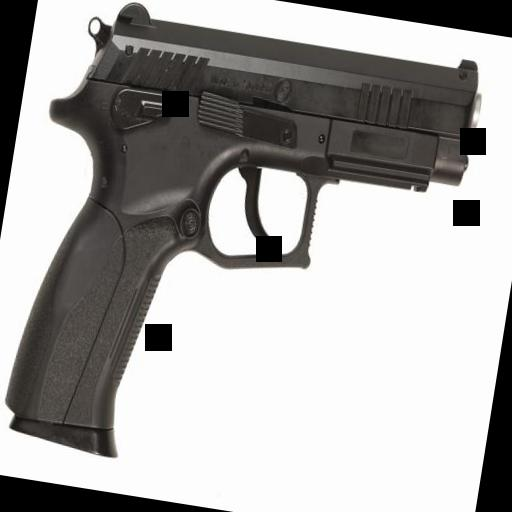Handgun: (0, 0, 488, 503)
